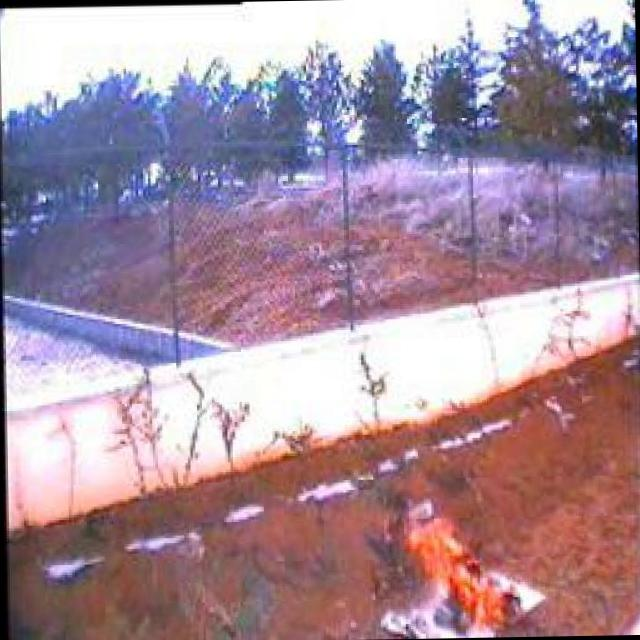Fire: (394, 496, 540, 632)
